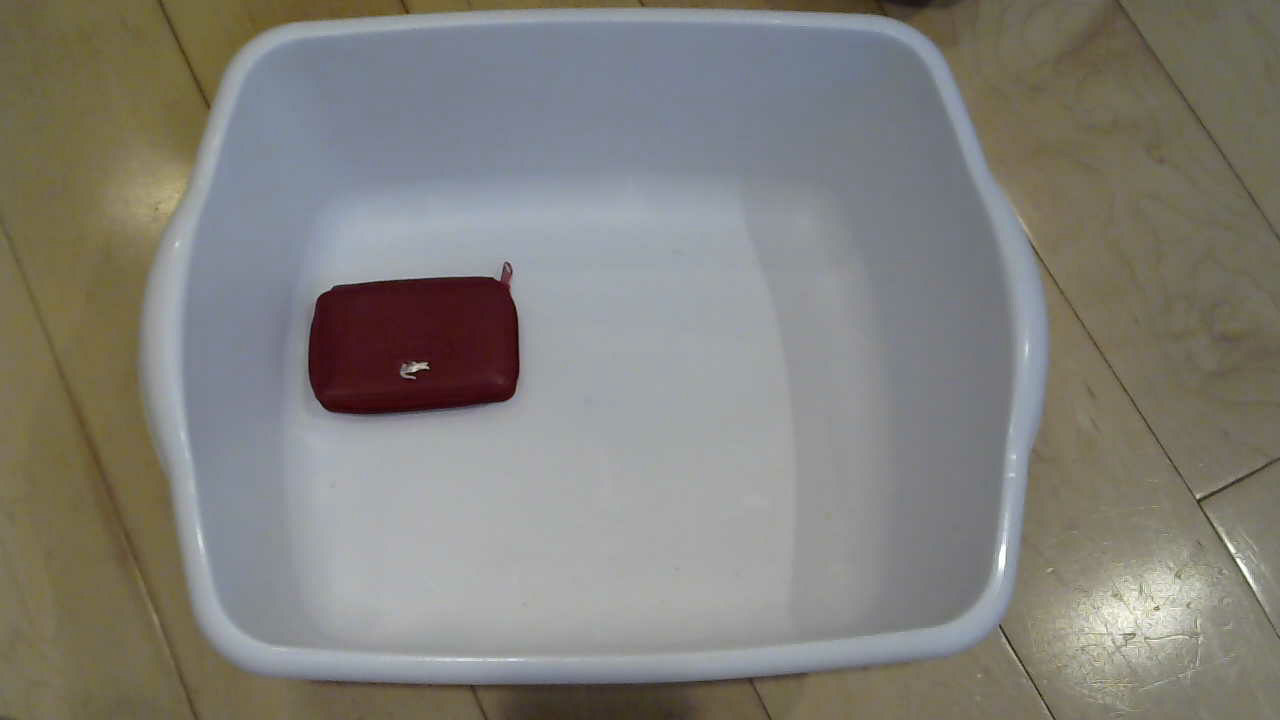wallet: (282, 263, 539, 429)
